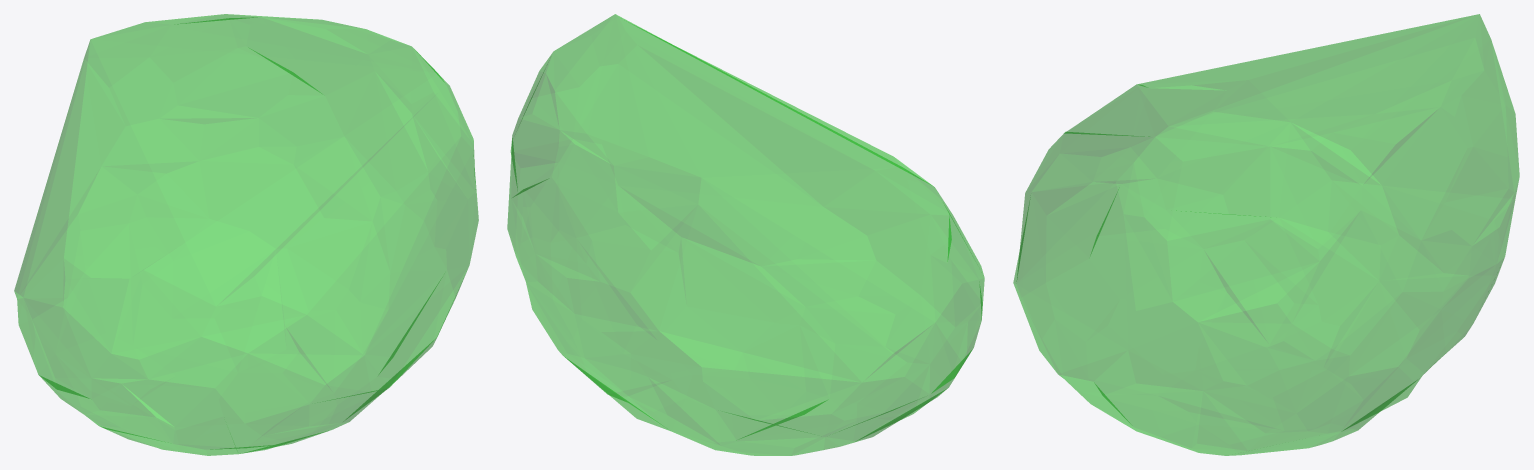
File: talos_lleg_rom.dae
The picture shows the model from 3 angles, left to right: view 1: azimuth 30°, elevation 25°; view 2: azimuth 150°, elevation 25°; view 3: azimuth 270°, elevation 25°; orthographic projection. The views are drawn at different scales.
Parts seen in each view (by area): view 1: Talos_Lleg_Rom; view 2: Talos_Lleg_Rom; view 3: Talos_Lleg_Rom.
Boxes of the visible parts, x1,y1,x2,y2 form: Talos_Lleg_Rom: (14, 14, 478, 455); Talos_Lleg_Rom: (507, 14, 984, 455); Talos_Lleg_Rom: (1013, 14, 1519, 455).
Size of the model in its own units: 1.47 by 1.34 by 1.17.
